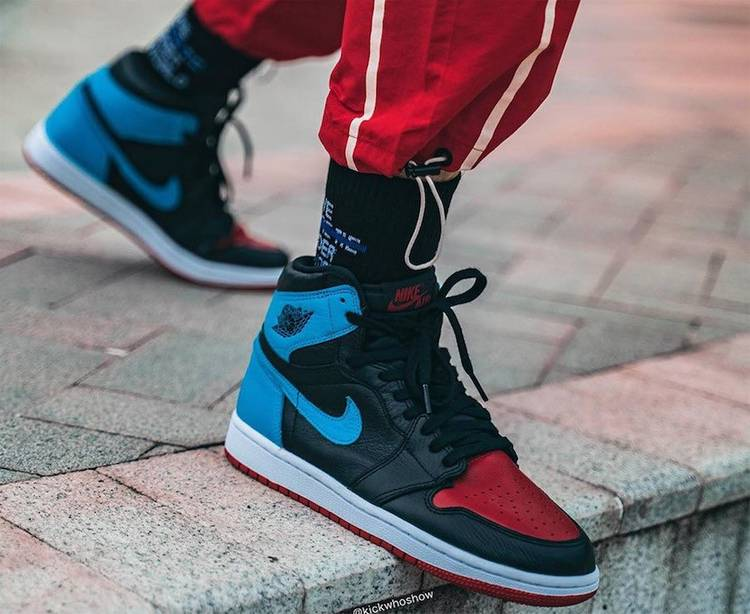Jordan 1: (219, 252, 604, 608), (17, 43, 298, 298)
